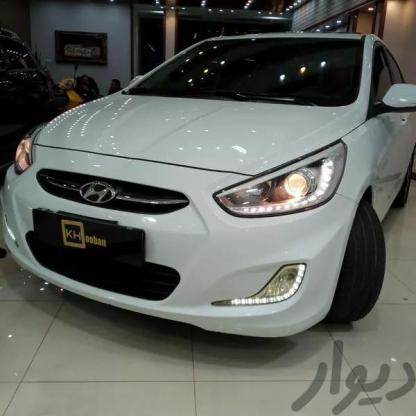Car: (0, 29, 416, 343)
